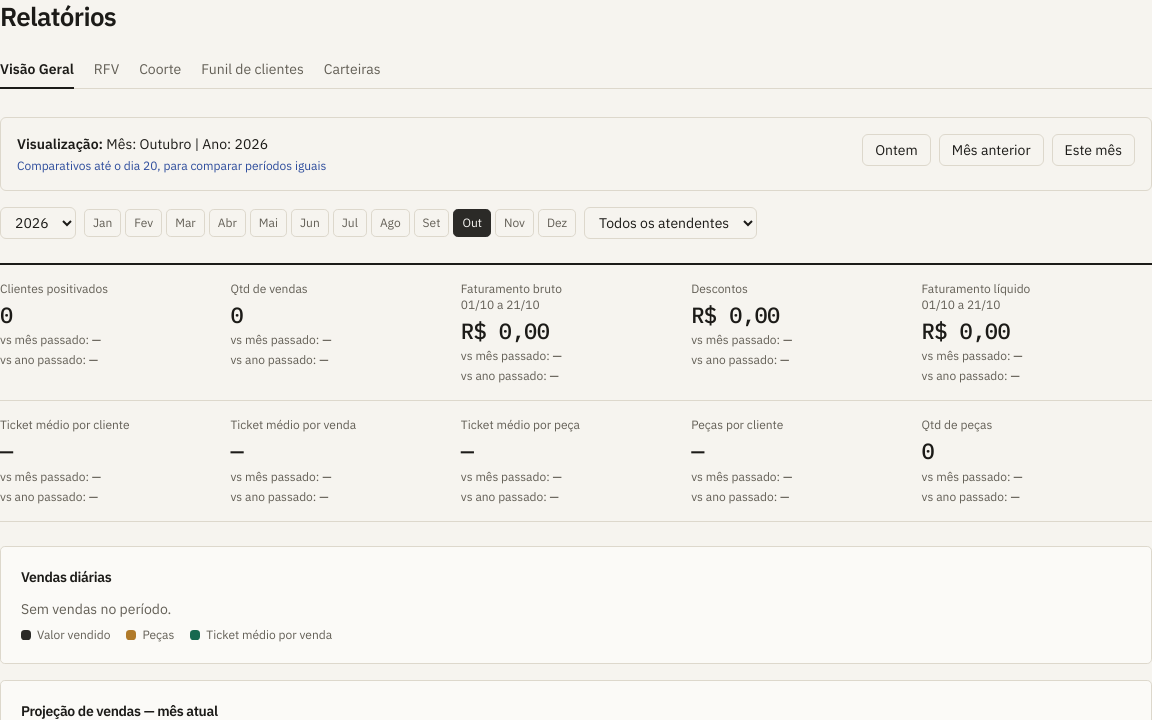
Test: B35-01 — painel de carteiras › CA-B35-01: clicar na aba Carteiras mostra visão geral, carteira por vendedor, sem vendedor e histórico
This screenshot has width=1152, height=720.
What coordinates should you click on to do the following:
click the tab "Carteiras"
I would click on:
 (352, 68)
Its box is [324,48,381,88].
(page scrolled)
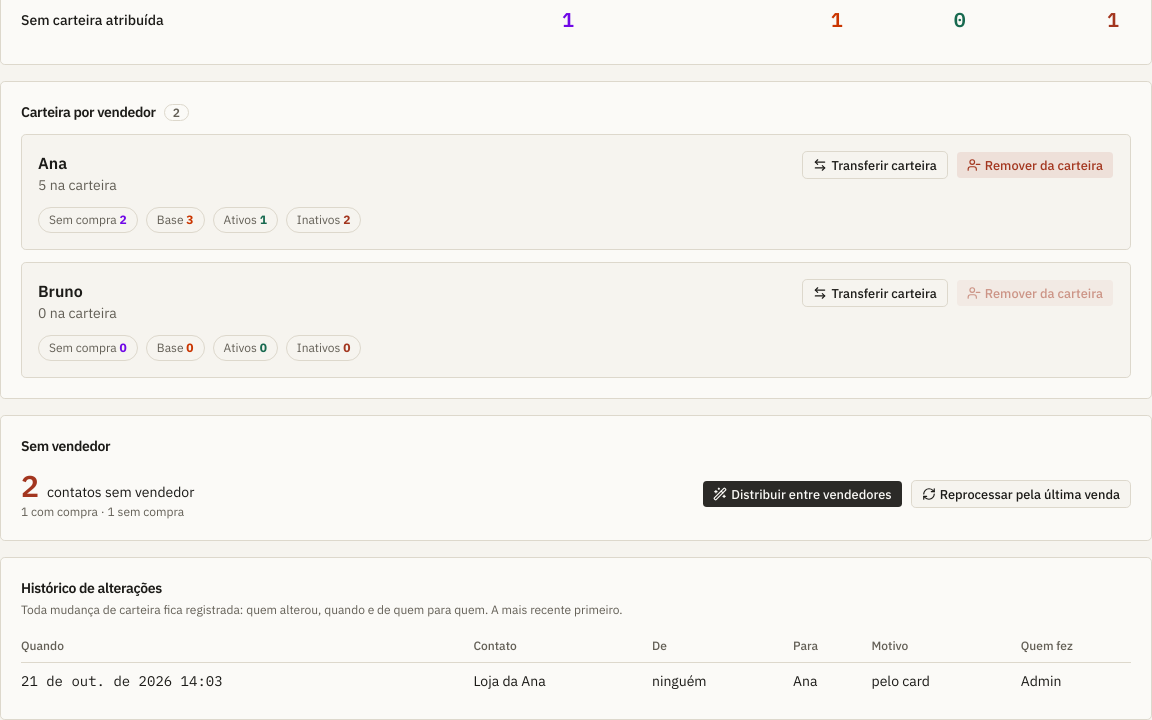
Check: the heading "Carteira por vendedor2" is shown, box [21,103,189,121]
Check: the element with test id "sem-vendedor" is shown, box [21,468,194,520]
Check: the heading "Vendas diárias" is gone
